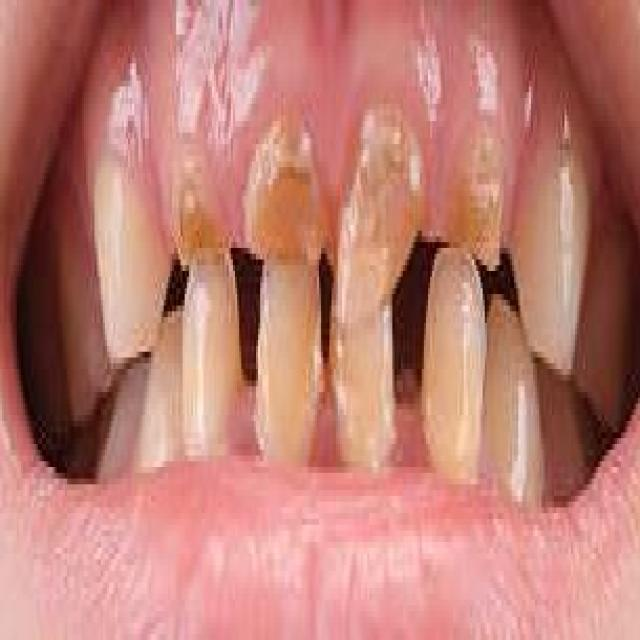caries: (336, 97, 426, 332), (234, 109, 330, 281), (444, 99, 512, 279), (170, 148, 230, 298)
